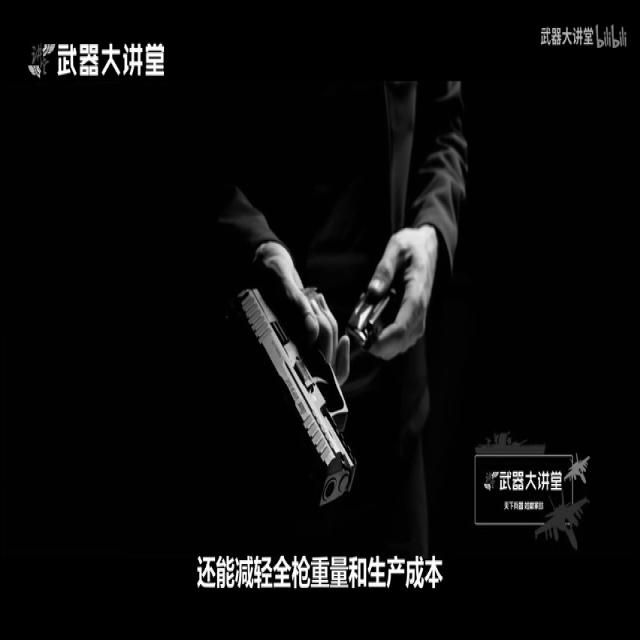Hand-Gun: (226, 219, 404, 528)
